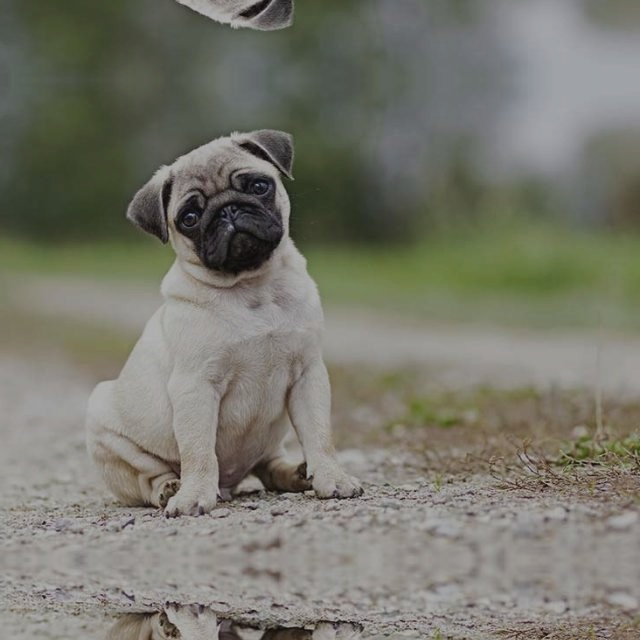dog: (68, 113, 388, 522), (68, 0, 389, 46), (68, 597, 389, 640)
